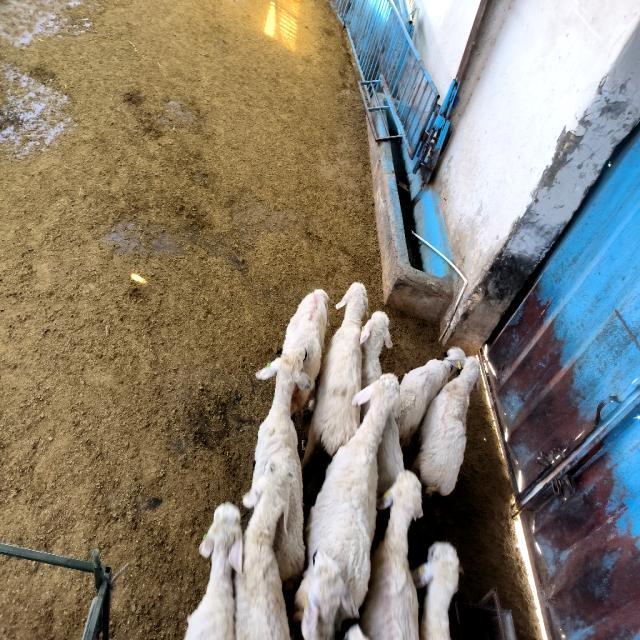sheep: (295, 375, 399, 638), (244, 347, 311, 582), (302, 282, 369, 468), (359, 470, 422, 640), (235, 453, 290, 640), (414, 357, 480, 495), (185, 503, 242, 640), (396, 347, 466, 446), (411, 542, 460, 640), (282, 290, 329, 386), (361, 312, 392, 388), (378, 413, 404, 496), (292, 388, 310, 414)
